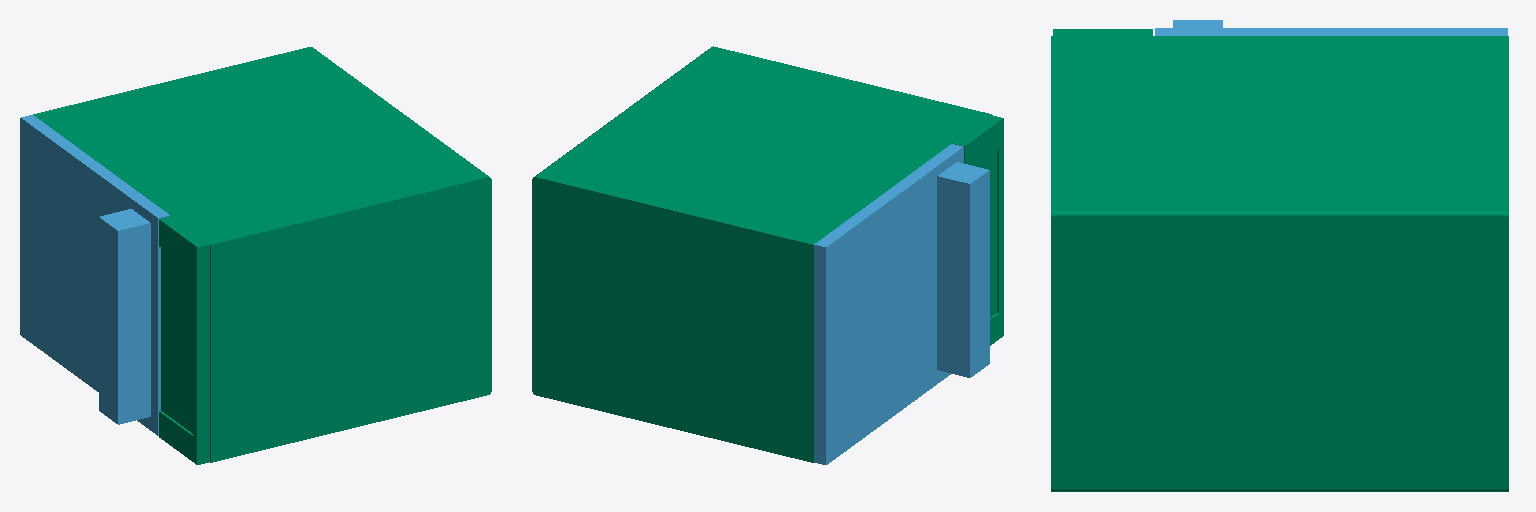
robot.urdf — partnet_c3bb5f3c842a6c2d178e7d331e641179:
<?xml version="1.0" ?>
<robot name="partnet_c3bb5f3c842a6c2d178e7d331e641179">
	<link name="base"/>

	<link name="link_0">
		<visual name="door">
			<origin xyz="0.6430403380134146 0.42593899369239807 -0.5477944794777341"/>
			<geometry>
				<mesh filename="new_door.obj"/>
			</geometry>
		</visual>
		<collision>
			<origin xyz="0.6430403380134146 0.42593899369239807 -0.5477944794777341"/>
			<geometry>
				<mesh filename="new_door.obj"/>
			</geometry>
		</collision>
		<visual name="door_handle">
			<origin xyz="0.6430403380134146 0.42593899369239807 -0.5477944794777341"/>
			<geometry>
				<mesh filename="new_door_handle.obj"/>
			</geometry>
		</visual>
		<collision>
			<origin xyz="0.6430403380134146 0.42593899369239807 -0.5477944794777341"/>
			<geometry>
				<mesh filename="new_door_handle.obj"/>
			</geometry>
		</collision>
	</link>
	<joint name="joint_0" type="revolute">
		<origin xyz="-0.6430403380134146 -0.42593899369239807 0.5477944794777341"/>
		<axis xyz="0 -1 0"/>
		<child link="link_0"/>
		<parent link="link_1"/>
		<limit lower="0.0" upper="1.5707963267948966"/>
	</joint>
	<link name="link_1">
		<visual name="frame-2">
			<origin xyz="0 0 0"/>
			<geometry>
				<mesh filename="body.obj"/>
			</geometry>
		</visual>
		<collision>
			<origin xyz="0 0 0"/>
			<geometry>
				<mesh filename="body.obj"/>
			</geometry>
		</collision>
	</link>
	<joint name="joint_1" type="fixed">
		<origin rpy="1.570796326794897 0 -1.570796326794897" xyz="0 0 0"/>
		<child link="link_1"/>
		<parent link="base"/>
	</joint>

</robot>

--- What the picture shows (computed from the rendered views, not written in the file) ---
Views: 3 orthographic renders of the robot side by side, from view 1: azimuth 30°, elevation 25°; view 2: azimuth 150°, elevation 25°; view 3: azimuth 270°, elevation 25°.
Model partnet_c3bb5f3c842a6c2d178e7d331e641179 with 3 links and 2 joints (1 revolute, 1 fixed), rooted at base, posed all joints at 0.
Visible links, largest first — view 1: link_1, link_0; view 2: link_1, link_0; view 3: link_1, link_0.
Link boxes in pixels (bbox=[...]): link_1: bbox=[33, 47, 491, 464]; link_0: bbox=[20, 115, 169, 435]; link_1: bbox=[532, 46, 1003, 462]; link_0: bbox=[814, 144, 989, 464]; link_1: bbox=[1051, 29, 1508, 491]; link_0: bbox=[1155, 20, 1507, 35].
Bounding box of the posed robot: 1.39 × 1.32 × 0.8905 m (x, y, z).
3 mesh visuals loaded from 3 distinct referenced files (3 OBJ).
